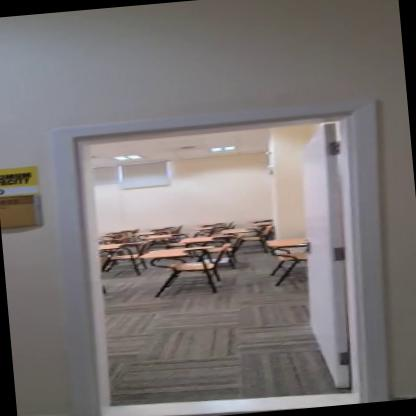open: (41, 85, 398, 415)
